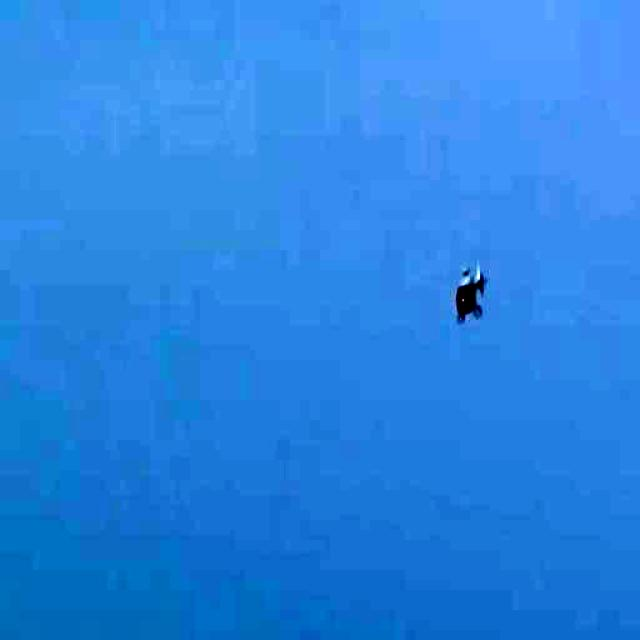drone: (444, 270, 495, 344)
